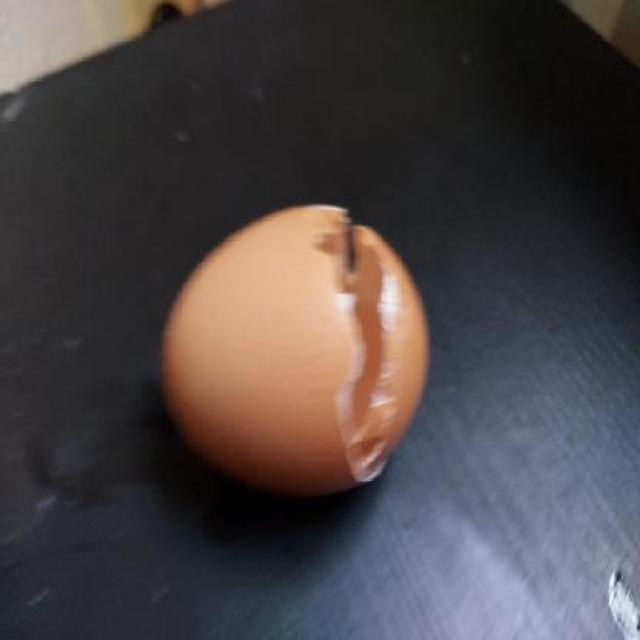biodegradable: (159, 196, 435, 496)
